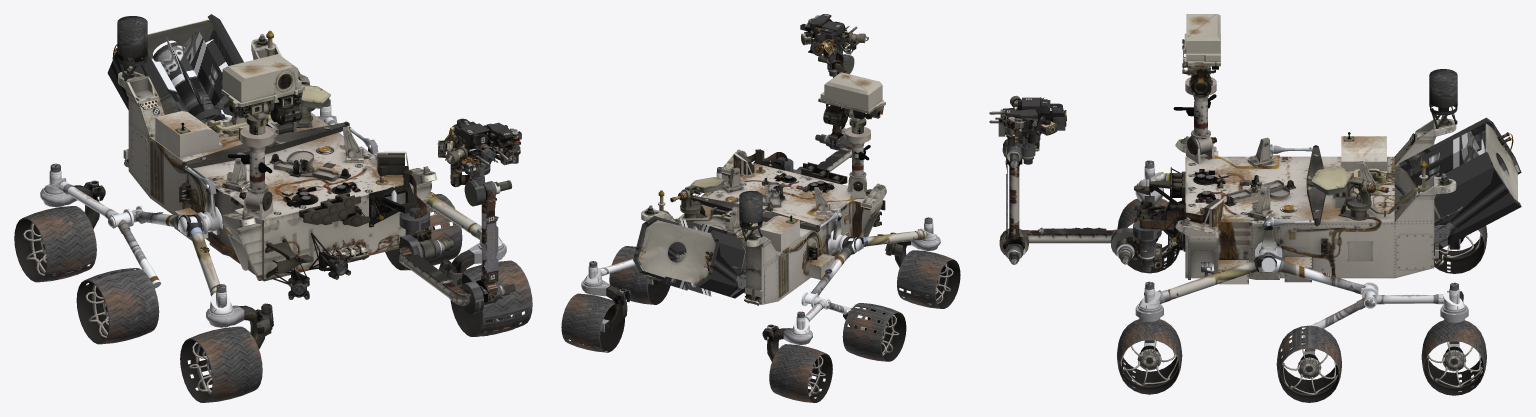
File: rover2.gltf
3 views of the same model, side by side, from view 1: azimuth 30°, elevation 25°; view 2: azimuth 150°, elevation 25°; view 3: azimuth 270°, elevation 25° (orthographic). The views are drawn at different scales.
Visible parts, largest first — view 1: MSL_0; view 2: MSL_0; view 3: MSL_0.
Boxes of the visible parts, bbox=[...] form: MSL_0: bbox=[14, 14, 532, 402]; MSL_0: bbox=[561, 14, 960, 402]; MSL_0: bbox=[989, 14, 1521, 402].
Bounding box in the file's own units: 2.78 × 2.22 × 3.94.
9 materials, 8 textured.
